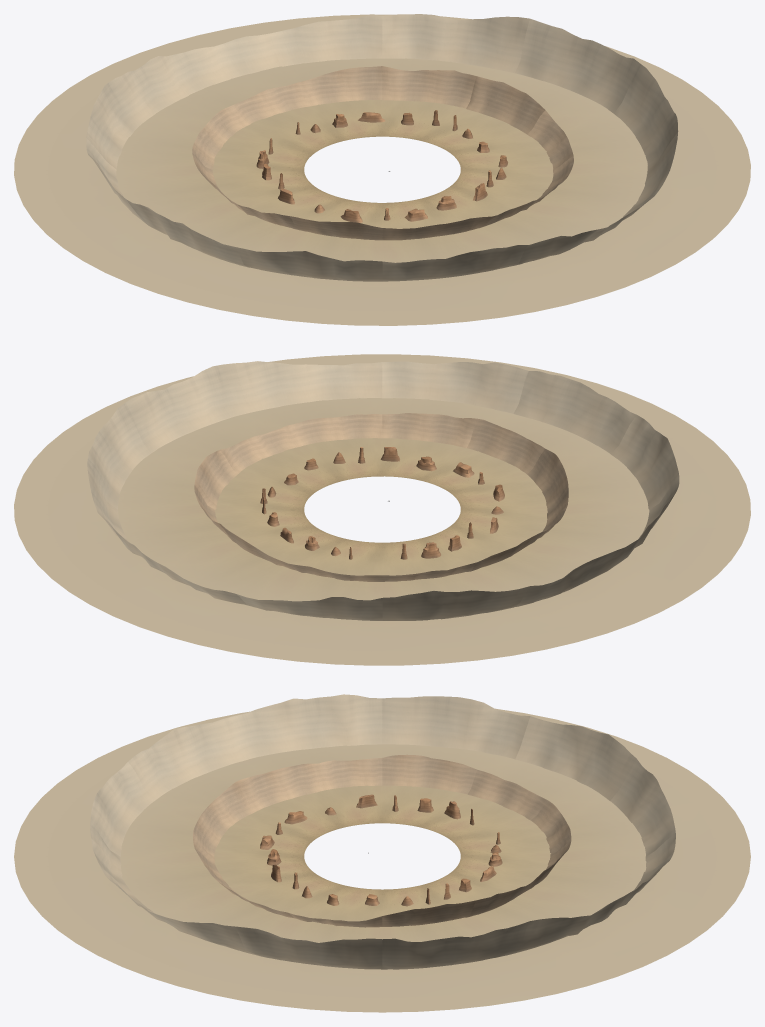
Rendered from X_Far.fbx.
3 renders of one model, top to bottom at view 1: azimuth 30°, elevation 25°; view 2: azimuth 150°, elevation 25°; view 3: azimuth 270°, elevation 25°, orthographic.
Visible parts, largest first — view 1: X_Mesa3_02, X_Mesa3_01, X_Mesa3_03, X_Skirt_3_12, X_Skirt_3_09, X_Skirt_3_10, X_Skirt_3_13, X_Skirt_3_11, X_Skirt_3_08, X_Skirt_3_14, X_Mesa3_04, X_Skirt_3_15 (+47 smaller); view 2: X_Mesa3_12, X_Mesa3_10, X_Mesa3_11, X_Mesa3_09, X_Skirt_3_06, X_Skirt_3_07, X_Skirt_3_04, X_Skirt_3_08, X_Skirt_3_05, X_Skirt_3_03, X_Skirt_3_09, X_Skirt_3_02 (+49 smaller); view 3: X_Mesa3_07, X_Mesa3_06, X_Mesa3_05, X_Mesa3_08, X_Skirt_3_01, X_Skirt_3_02, X_Skirt_3_15, X_Skirt_3_16, X_Skirt_3_03, X_Skirt_3_14, X_Skirt_3_13, X_Skirt_3_04 (+46 smaller).
Boxes of the visible parts, x1,y1,x2,y2 form: X_Mesa3_02: (382, 14, 529, 73); X_Mesa3_01: (515, 18, 640, 113); X_Mesa3_03: (236, 15, 382, 73); X_Skirt_3_12: (418, 271, 566, 324); X_Skirt_3_09: (63, 228, 213, 293); X_Skirt_3_10: (158, 263, 310, 320); X_Skirt_3_13: (521, 241, 674, 304); X_Skirt_3_11: (287, 283, 430, 325); X_Skirt_3_08: (17, 185, 142, 247); X_Skirt_3_14: (602, 200, 738, 264); X_Mesa3_04: (128, 39, 250, 114); X_Skirt_3_15: (650, 150, 750, 210); X_Mesa3_12: (124, 363, 249, 453); X_Mesa3_10: (382, 361, 528, 413); X_Mesa3_11: (235, 361, 382, 412); X_Mesa3_09: (513, 371, 636, 453); X_Skirt_3_06: (334, 623, 477, 665); X_Skirt_3_07: (454, 602, 606, 660); X_Skirt_3_04: (90, 581, 243, 644); X_Skirt_3_08: (551, 568, 700, 633); X_Skirt_3_05: (198, 611, 346, 664); X_Skirt_3_03: (26, 540, 162, 604); X_Skirt_3_09: (622, 525, 747, 587); X_Skirt_3_02: (14, 489, 114, 550); X_Mesa3_07: (234, 694, 382, 758); X_Mesa3_06: (382, 696, 530, 759); X_Mesa3_05: (515, 716, 636, 800); X_Mesa3_08: (128, 716, 248, 800); X_Skirt_3_01: (382, 964, 522, 1012); X_Skirt_3_02: (488, 939, 642, 1000); X_Skirt_3_15: (122, 939, 276, 1000); X_Skirt_3_16: (242, 965, 382, 1012); X_Skirt_3_03: (578, 901, 722, 966); X_Skirt_3_14: (42, 901, 186, 966); X_Skirt_3_13: (14, 856, 126, 916); X_Skirt_3_04: (638, 856, 750, 916).
Size of the model in its own units: 800000 by 53949 by 800000.
3 materials, 2 textured.
